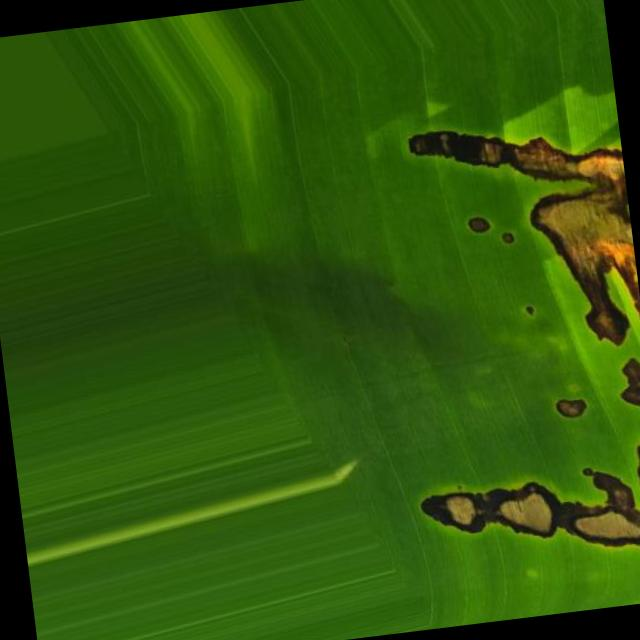Banana_Black_Sigatoka: (365, 80, 640, 597)
